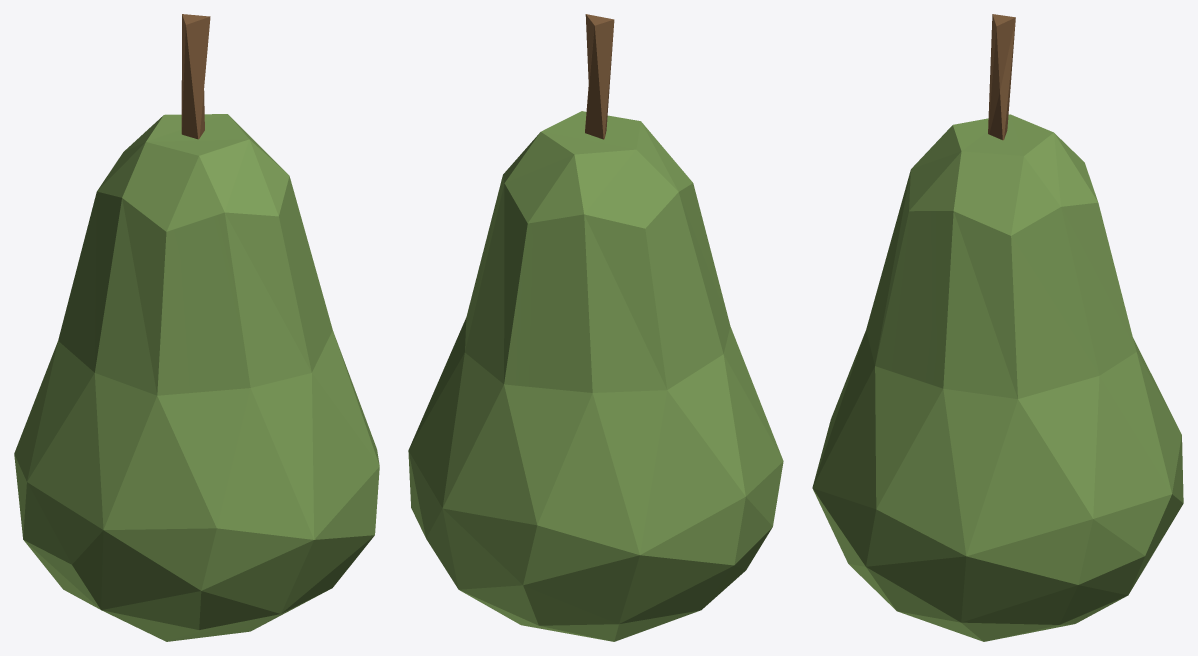
File: Pear.fbx
The picture shows the model from 3 angles, left to right: view 1: azimuth 30°, elevation 25°; view 2: azimuth 150°, elevation 25°; view 3: azimuth 270°, elevation 25°; orthographic projection.
Visible parts, largest first — view 1: Pear; view 2: Pear; view 3: Pear.
Boxes of the visible parts, left/top/right/bottom form: Pear: left=14, top=14, right=379, bottom=641; Pear: left=408, top=14, right=783, bottom=641; Pear: left=812, top=14, right=1183, bottom=641.
Bounding box in the file's own units: 0.1937 × 0.3409 × 0.1936.
